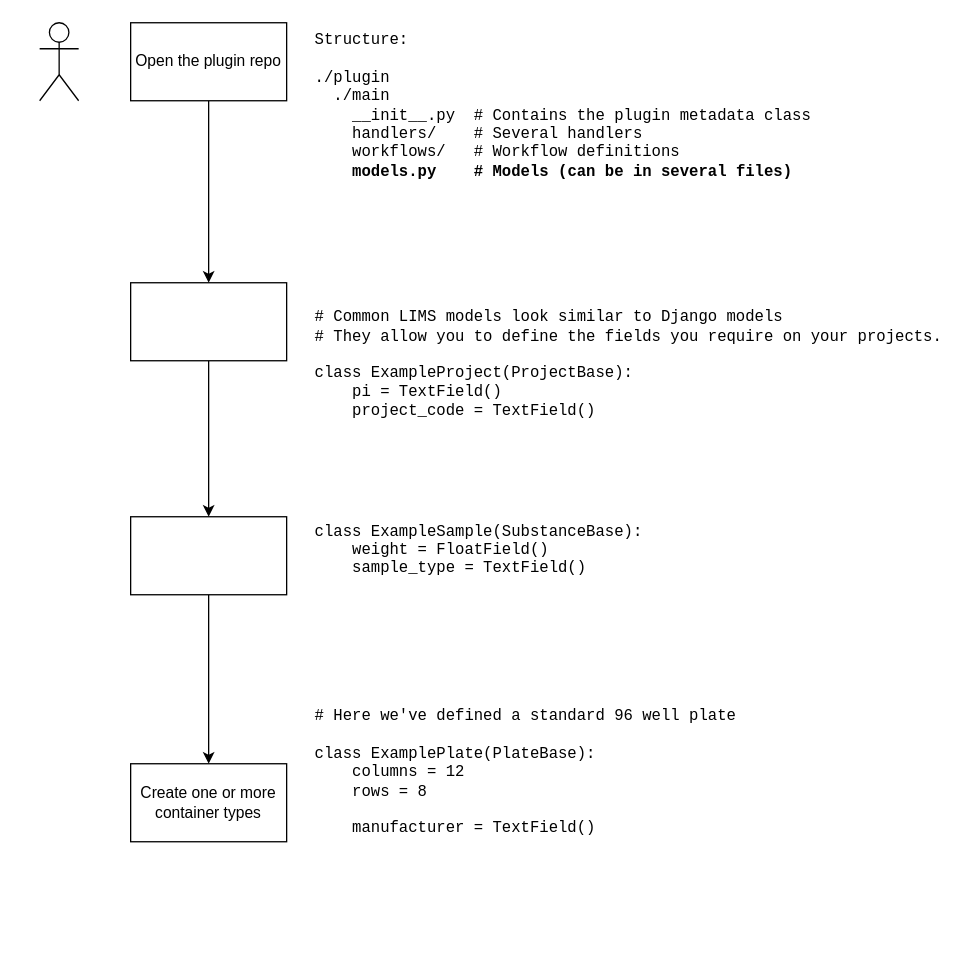
This 972x955 diagram has some shape labels left out. The shapes that lost their labels are listed below. From the top down, each one's box as (x1, y1, x2, y2) in pixels, then its label:
(38, 21, 79, 101): Plugin dev
(129, 281, 287, 361): Create a project model
(129, 515, 287, 595): Create one or substance types (sample, index etc)
